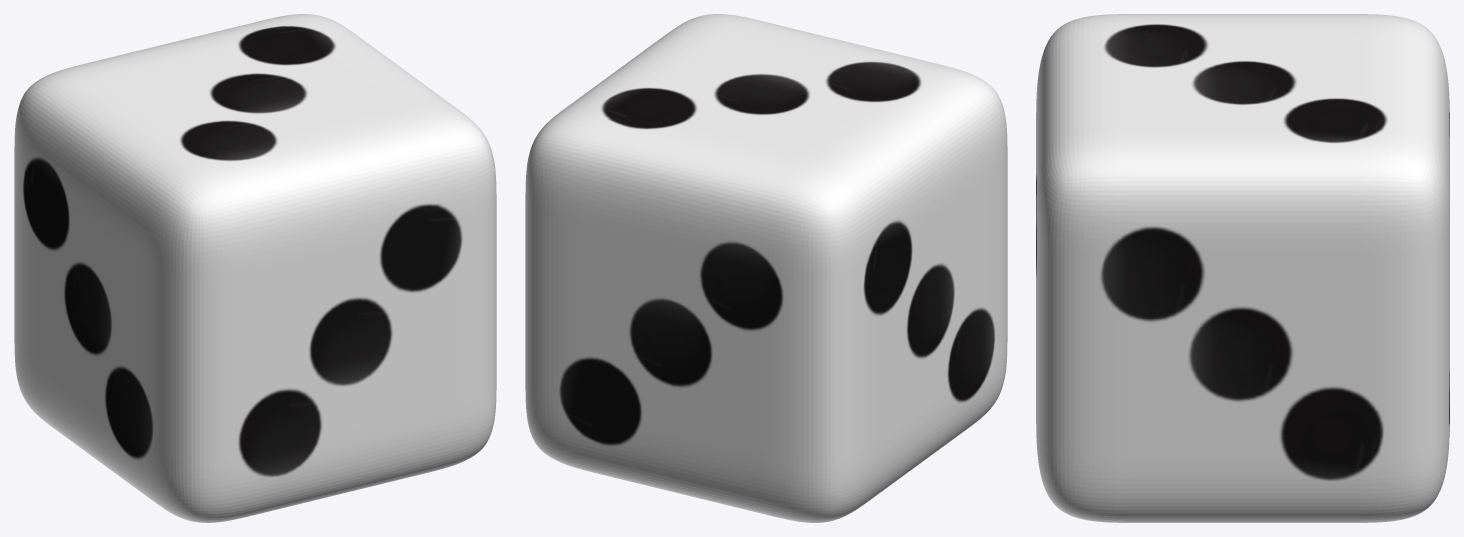
The model's file is Dice3.glb.
3 views of the same model, side by side, from view 1: azimuth 30°, elevation 25°; view 2: azimuth 150°, elevation 25°; view 3: azimuth 270°, elevation 25° (orthographic). The views are drawn at different scales.
Visible parts, largest first — view 1: Dice_20Ready; view 2: Dice_20Ready; view 3: Dice_20Ready.
Boxes of the visible parts, box(x1,y1,x2,y2) form: Dice_20Ready: box(14, 14, 496, 522); Dice_20Ready: box(525, 14, 1007, 522); Dice_20Ready: box(1036, 14, 1449, 522).
Bounding box in the file's own units: 1 × 1 × 1.
1 material, 1 textured.
